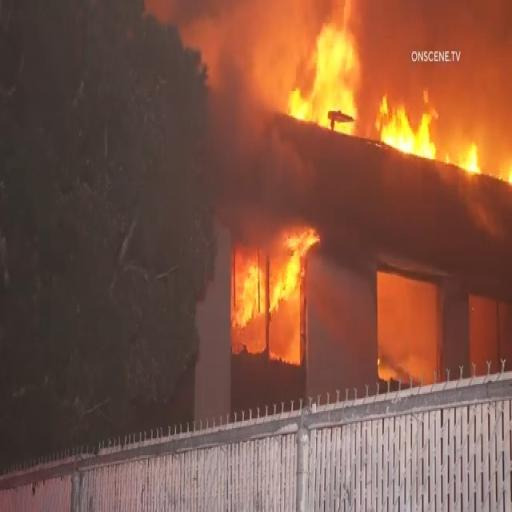fire: (230, 242, 314, 346), (292, 8, 362, 118), (372, 91, 442, 162), (460, 132, 480, 176)
